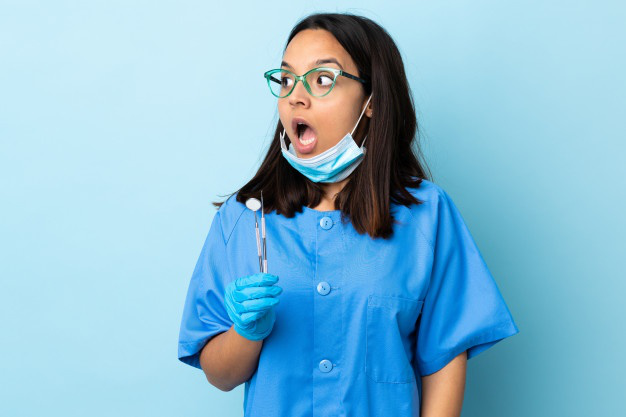mask_weared_incorrect: (272, 38, 377, 182)
